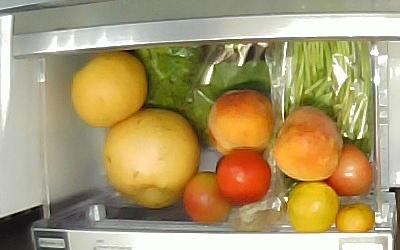peach: (270, 105, 343, 181), (208, 88, 273, 155)
pear: (102, 106, 199, 206), (71, 50, 147, 126)
tangerine: (287, 182, 342, 232), (338, 202, 375, 233)
tomato: (215, 148, 270, 205), (183, 171, 232, 224), (326, 141, 372, 196)
